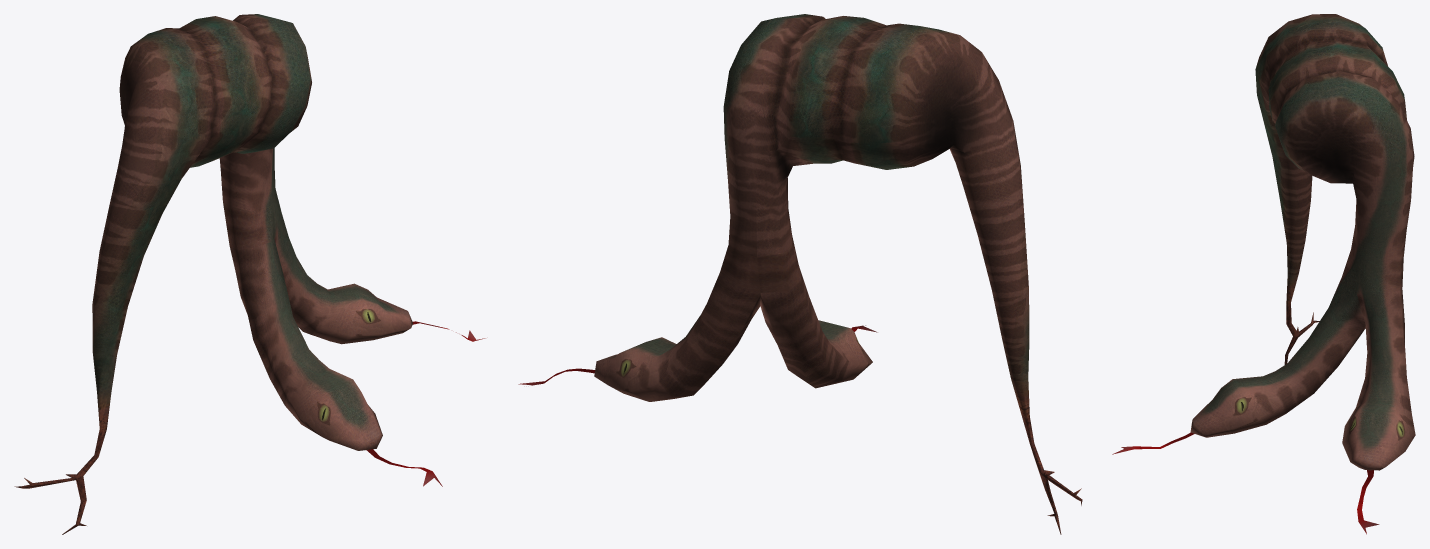
Rendered from snake.fbx.
The picture shows the model from 3 angles, left to right: view 1: azimuth 30°, elevation 25°; view 2: azimuth 150°, elevation 25°; view 3: azimuth 270°, elevation 25°; orthographic projection. The views are drawn at different scales.
Parts seen in each view (by area): view 1: snake_Mesh_001; view 2: snake_Mesh_001; view 3: snake_Mesh_001.
Part boxes in pixels (x1,y1,x2,y2): snake_Mesh_001: (14,14,485,534); snake_Mesh_001: (518,14,1082,534); snake_Mesh_001: (1112,14,1415,534).
Bounding box in the file's own units: 98.51 × 85.2 × 56.93.
Materials: 1 (1 with a texture image).
